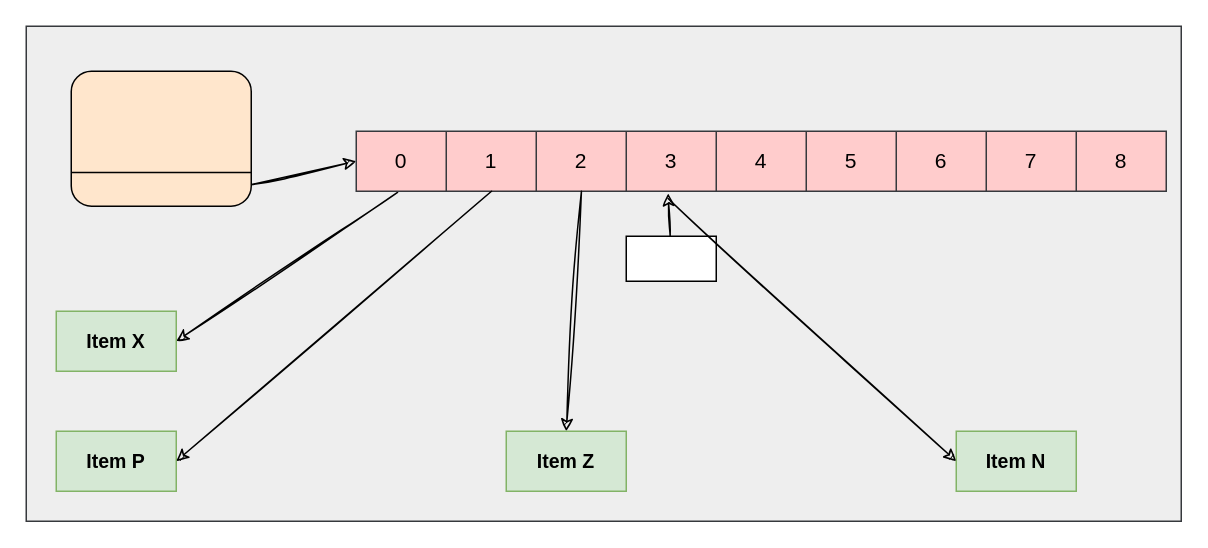
Image size: 1208x548. Some labels were removed from this diagram. Each missing label, with the centre of its shape:
top: (670,258)
top = 3 size = 9 arr: (160,138)
